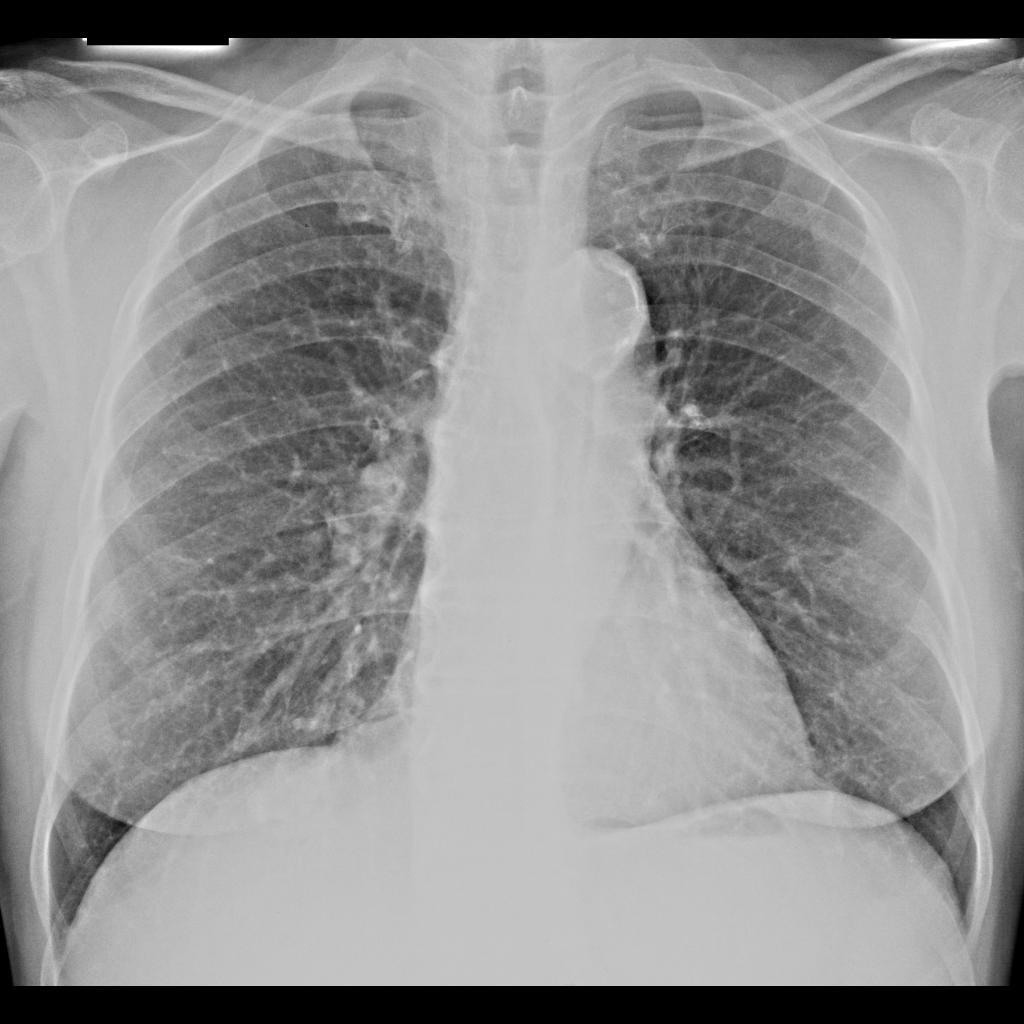Nodule: (242, 749, 342, 849)
